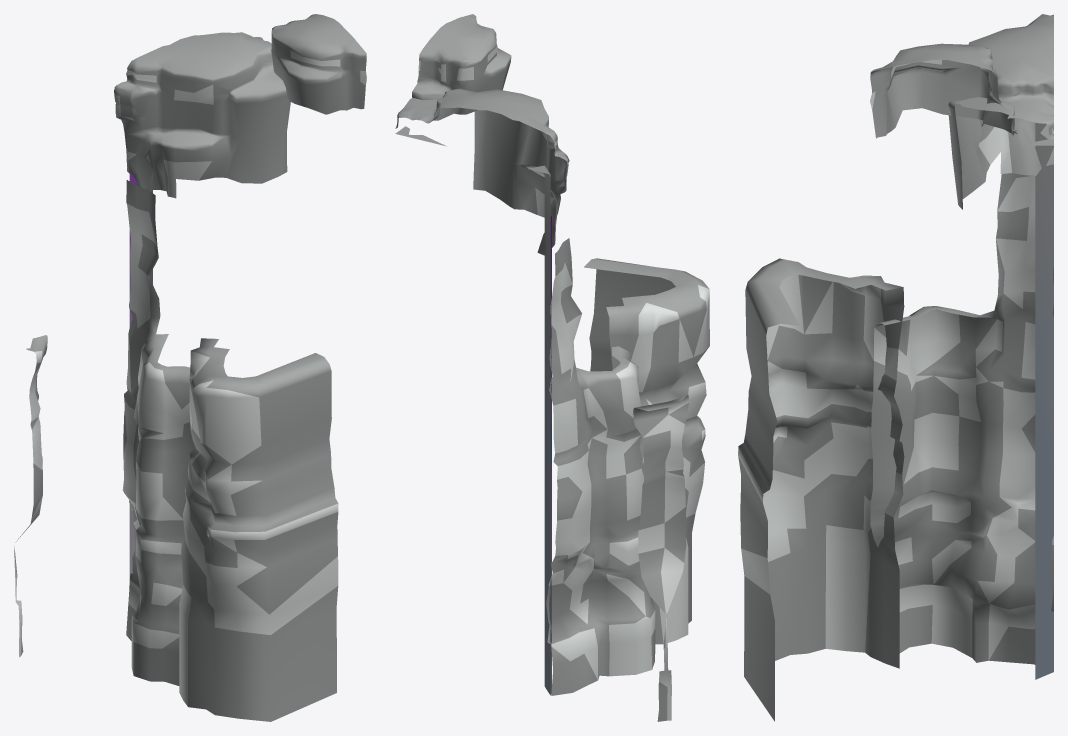
3 views of the same model, side by side, from view 1: azimuth 30°, elevation 25°; view 2: azimuth 150°, elevation 25°; view 3: azimuth 270°, elevation 25° (orthographic). The views are drawn at different scales.
Visible parts, largest first — view 1: G:\FFXIV-MapTools\exports\m5t1\bg\ex4\02_mid_m5\twn\m5t1\bgp (×5); view 2: G:\FFXIV-MapTools\exports\m5t1\bg\ex4\02_mid_m5\twn\m5t1\bgp (×6); view 3: G:\FFXIV-MapTools\exports\m5t1\bg\ex4\02_mid_m5\twn\m5t1\bgp (×5).
Part boxes in pixels (x1,y1,x2,y2): G:\FFXIV-MapTools\exports\m5t1\bg\ex4\02_mid_m5\twn\m5t1\bgp (×5): [14, 14, 366, 721]; G:\FFXIV-MapTools\exports\m5t1\bg\ex4\02_mid_m5\twn\m5t1\bgp (×6): [395, 14, 709, 721]; G:\FFXIV-MapTools\exports\m5t1\bg\ex4\02_mid_m5\twn\m5t1\bgp (×5): [738, 14, 1053, 721].
Bounding box in the file's own units: 128 × 269 × 110.
